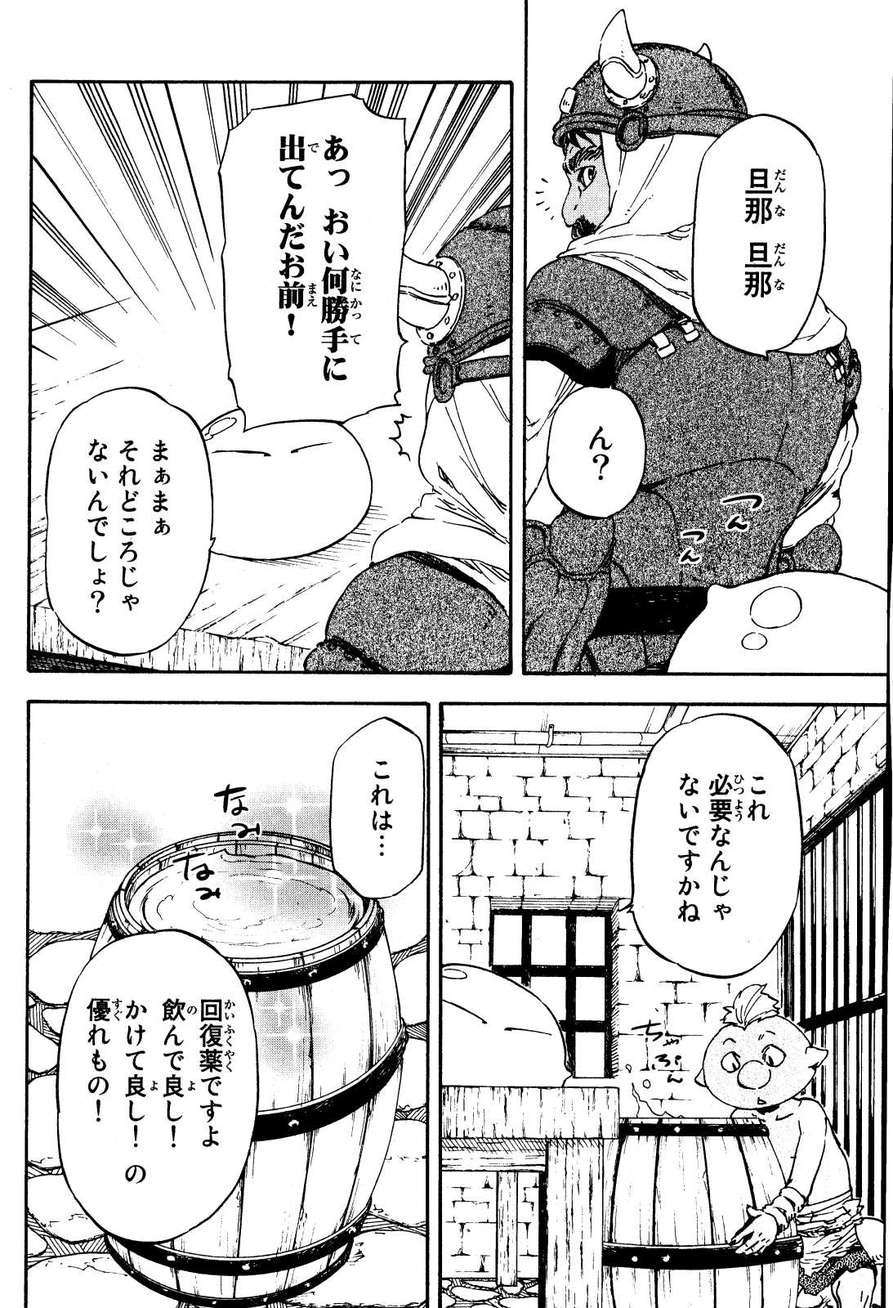bubbles: (208, 91, 432, 434), (49, 929, 252, 1252), (609, 711, 815, 984), (42, 388, 217, 657), (686, 110, 841, 365), (321, 714, 431, 909), (549, 374, 650, 521)
